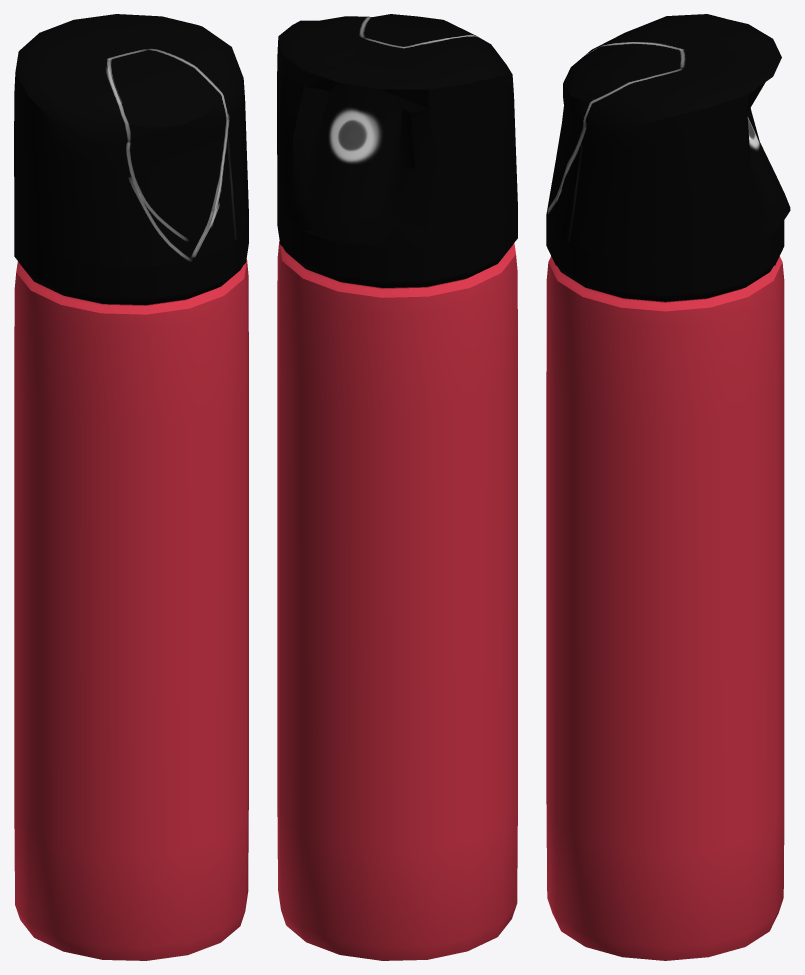
Rendered from item_uhhh2.glb.
The picture shows the model from 3 angles, left to right: view 1: azimuth 30°, elevation 25°; view 2: azimuth 150°, elevation 25°; view 3: azimuth 270°, elevation 25°; orthographic projection. The views are drawn at different scales.
Parts seen in each view (by area): view 1: Cylinder; view 2: Cylinder; view 3: Cylinder.
Part boxes in pixels (<box>): Cylinder: <box>14,14,248,960</box>; Cylinder: <box>277,14,517,960</box>; Cylinder: <box>546,14,790,960</box>.
Size of the model in its own units: 0.1229 by 0.4895 by 0.1261.
2 materials, 1 textured.
